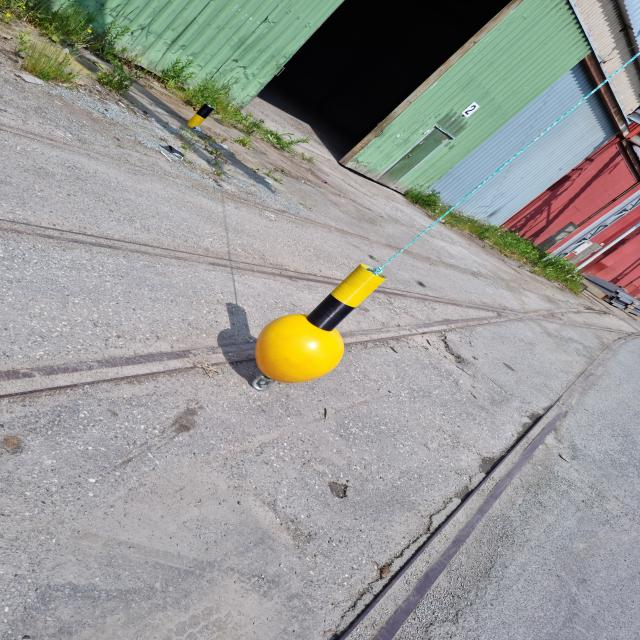west: (254, 264, 390, 384)
